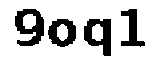1: (118, 7, 151, 50)
9: (8, 5, 44, 49)
o: (47, 17, 77, 49)
q: (82, 15, 115, 58)
